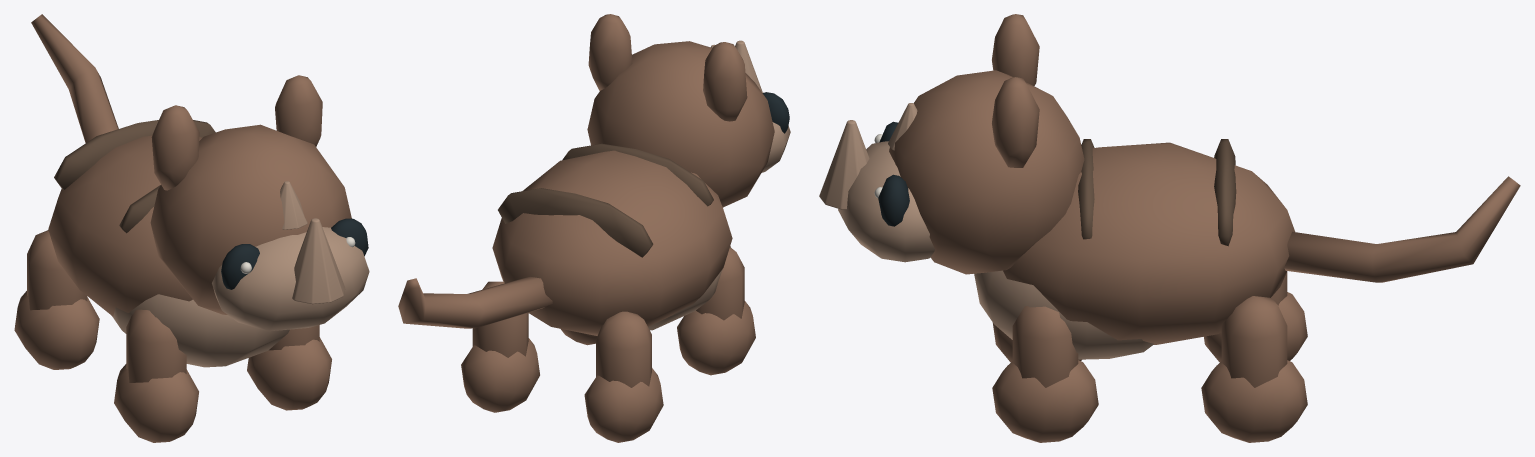
Rendered from org_sumatranrhino.glb.
3 views of the same model, side by side, from view 1: azimuth 30°, elevation 25°; view 2: azimuth 150°, elevation 25°; view 3: azimuth 270°, elevation 25° (orthographic). The views are drawn at different scales.
Parts seen in each view (by area): view 1: Head, Body, Leg_FR, Leg_BR, Leg_FL, Tail, Eye_R, Eye_L; view 2: Body, Head, Leg_BR, Leg_BL, Leg_FR, Tail, Eye_R; view 3: Body, Head, Leg_BL, Leg_FL, Tail, Leg_BR, Eye_L.
Boxes of the visible parts, bbox=[...] form: Head: bbox=[150, 75, 369, 331]; Body: bbox=[48, 120, 289, 367]; Leg_FR: bbox=[114, 309, 198, 442]; Leg_BR: bbox=[14, 230, 99, 369]; Leg_FL: bbox=[247, 325, 331, 410]; Tail: bbox=[31, 14, 118, 142]; Eye_R: bbox=[221, 244, 259, 289]; Eye_L: bbox=[331, 218, 368, 256]; Body: bbox=[492, 143, 732, 335]; Head: bbox=[587, 14, 790, 207]; Leg_BR: bbox=[584, 311, 663, 442]; Leg_BL: bbox=[461, 281, 539, 412]; Leg_FR: bbox=[677, 248, 755, 375]; Tail: bbox=[398, 276, 552, 328]; Eye_R: bbox=[762, 92, 789, 133]; Body: bbox=[974, 139, 1295, 359]; Head: bbox=[819, 14, 1084, 274]; Leg_BL: bbox=[1201, 296, 1307, 442]; Leg_FL: bbox=[992, 306, 1098, 442]; Tail: bbox=[1284, 176, 1520, 282]; Leg_BR: bbox=[1204, 271, 1307, 362]; Eye_L: bbox=[874, 174, 909, 226].
Size of the model in its own units: 0.5129 by 0.7932 by 1.4.
